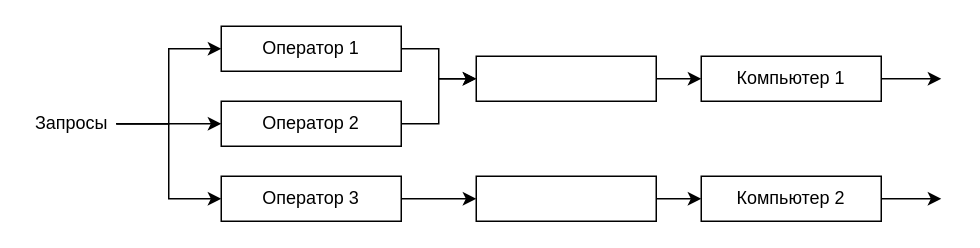
Some shapes in this 980 by 248 pixel diagram are drawn without their labels. The centre of each missing label's shape, as x and y in pixels:
Накопитель 1: pixel 565 78
Накопитель 2: pixel 565 198
